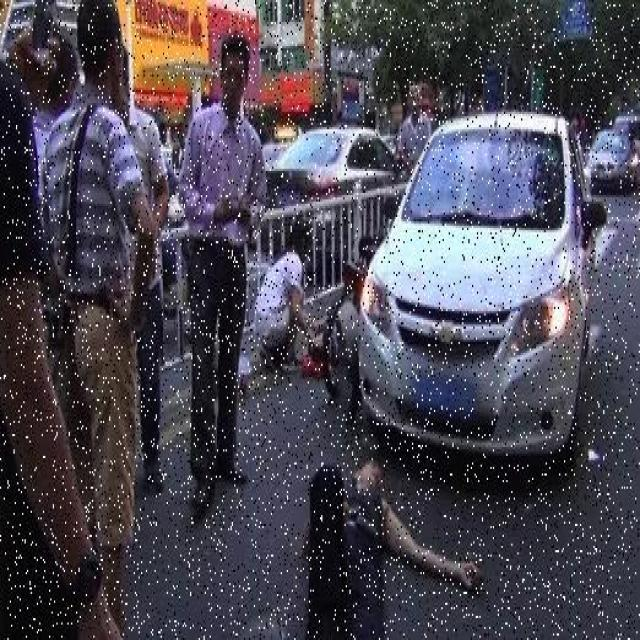fall: (303, 450, 445, 638)
